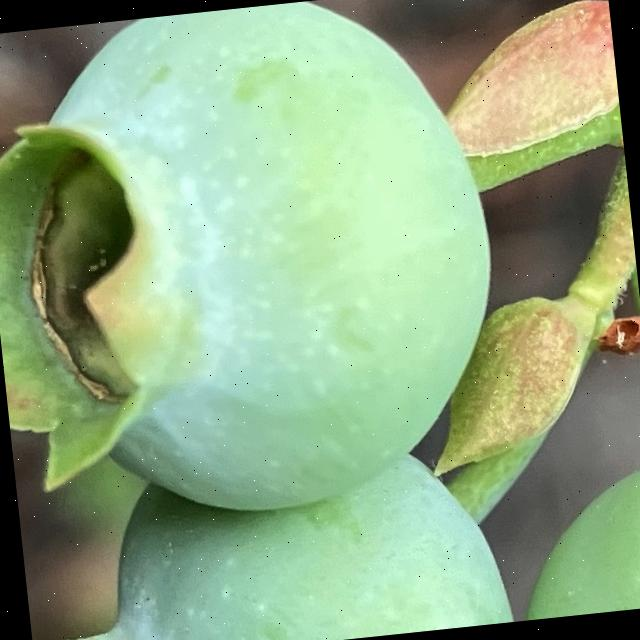Blueberries: (0, 0, 522, 541), (31, 442, 522, 640)
